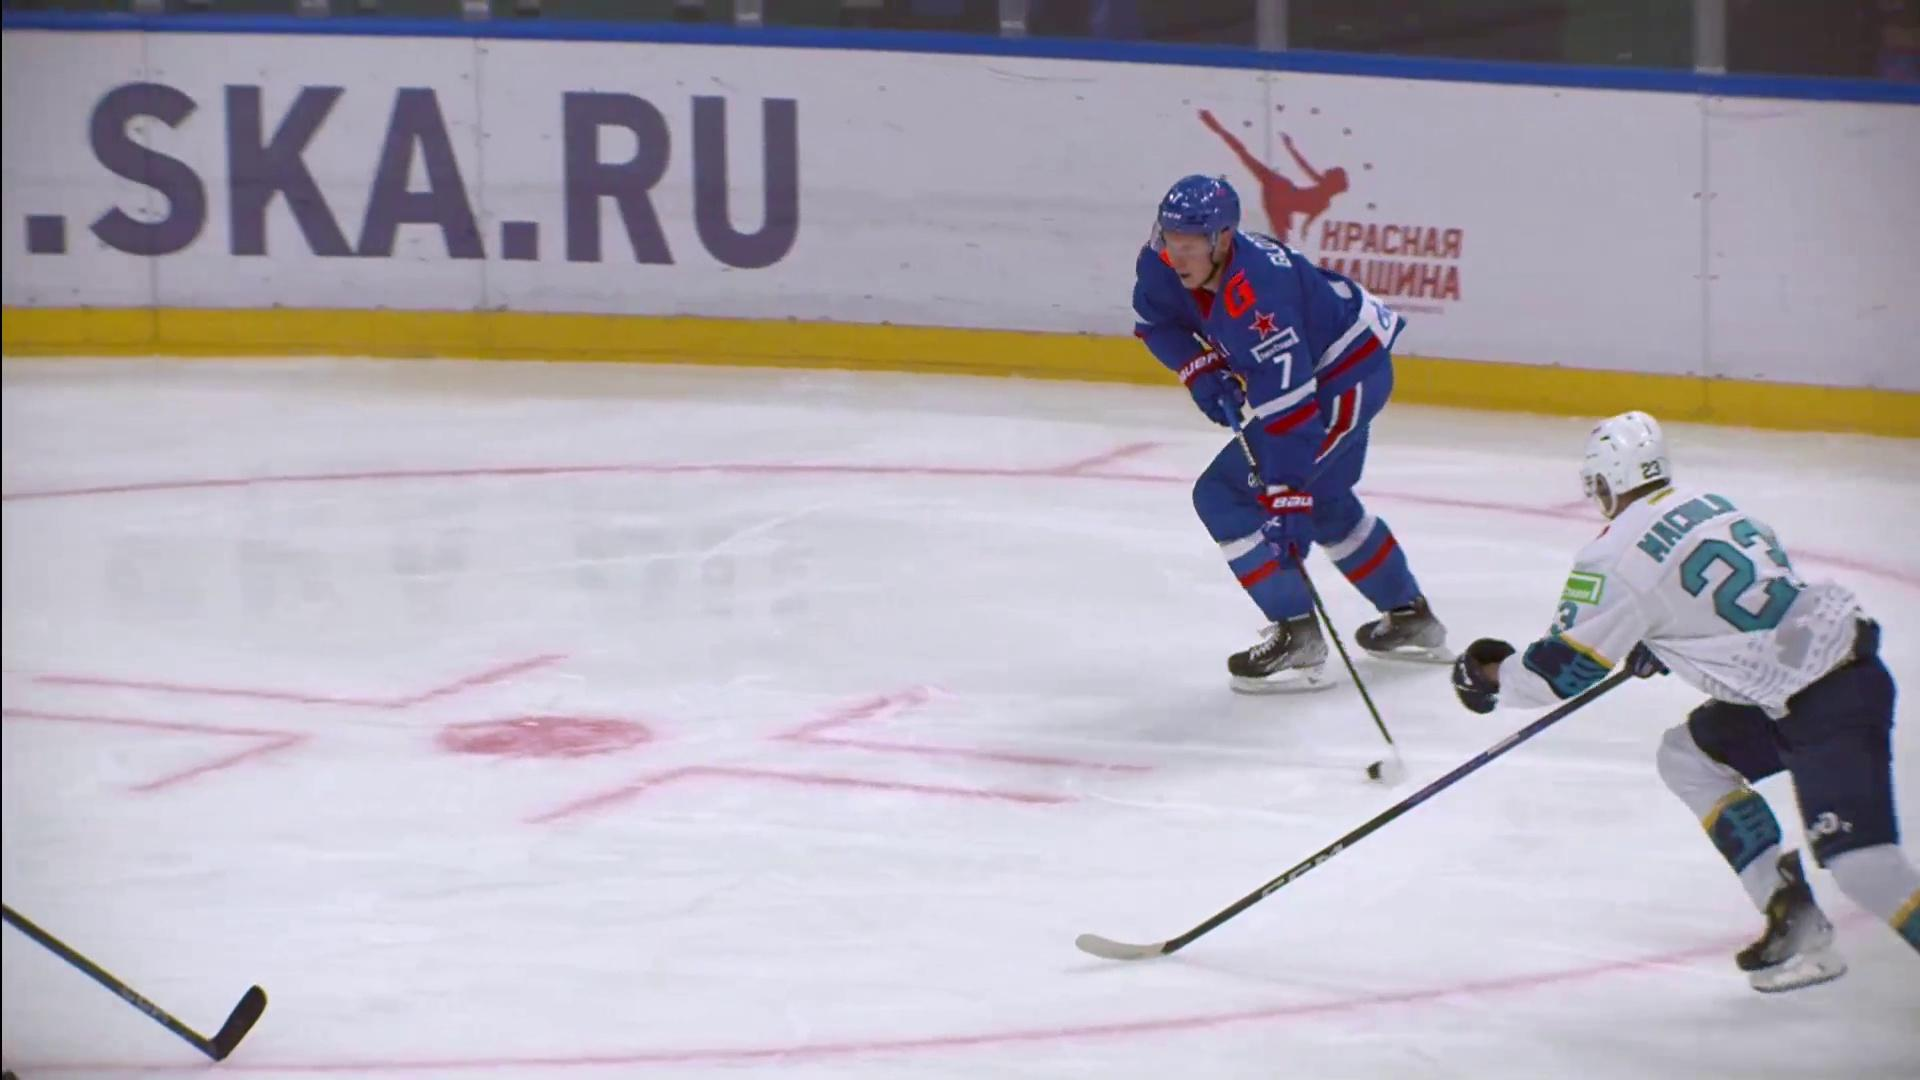ball: (1366, 760, 1385, 781)
